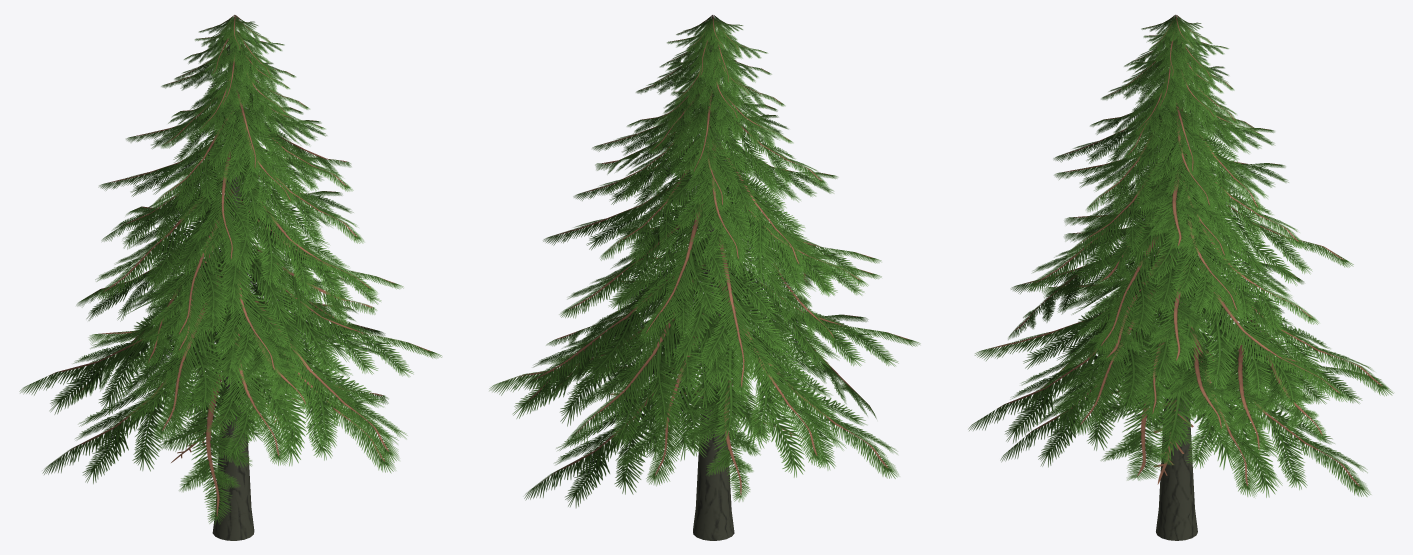
Rendered from tree_pine11.glb.
3 views of the same model, side by side, from view 1: azimuth 30°, elevation 25°; view 2: azimuth 150°, elevation 25°; view 3: azimuth 270°, elevation 25° (orthographic).
Parts seen in each view (by area): view 1: Branches, Trunk; view 2: Branches, Trunk; view 3: Branches, Trunk.
Boxes of the visible parts, left/top/right/bottom form: Branches: left=19, top=15, right=442, bottom=524; Trunk: left=212, top=31, right=254, bottom=540; Branches: left=489, top=15, right=920, bottom=507; Trunk: left=693, top=45, right=734, bottom=540; Branches: left=968, top=14, right=1393, bottom=497; Trunk: left=1156, top=45, right=1197, bottom=540.
Bounding box in the file's own units: 58.35 × 75 × 57.27.
Materials: 2 (2 with a texture image).
